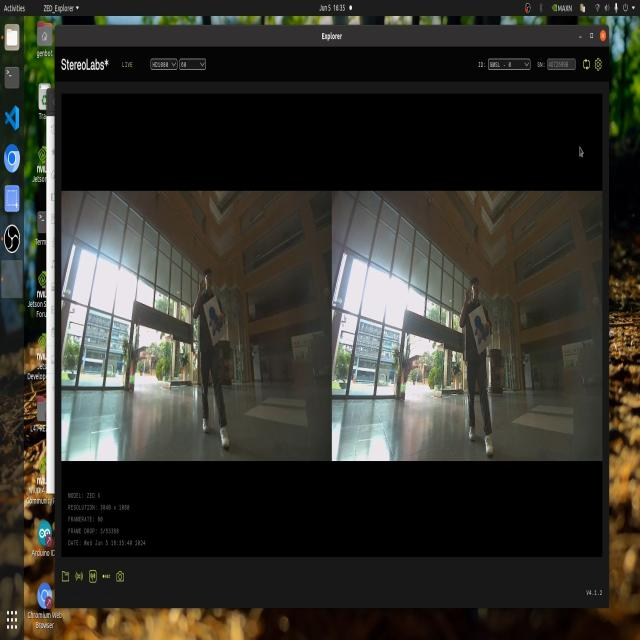blue: (210, 302, 230, 341), (468, 314, 485, 350)
